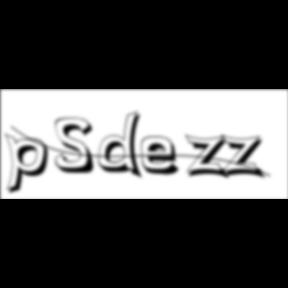S: (55, 117, 101, 176)
d: (99, 110, 149, 182)
e: (141, 135, 187, 178)
p: (5, 132, 55, 198)
z: (184, 134, 234, 182), (220, 134, 270, 182)
